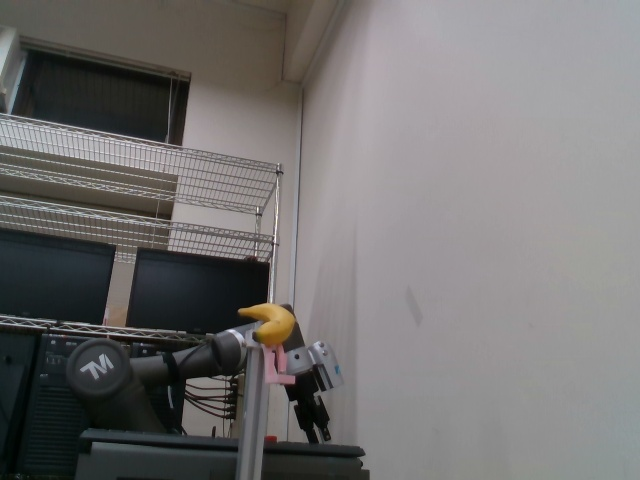banana: (237, 301, 298, 347)
